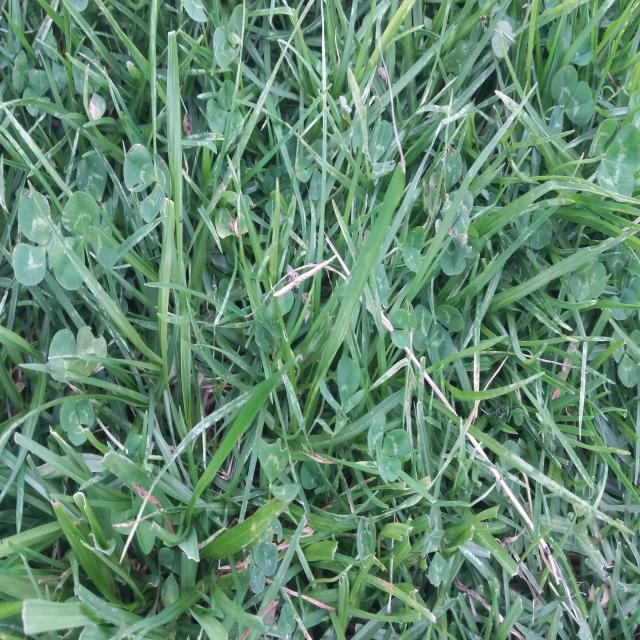Four Leaf Clover: (367, 413, 411, 484), (373, 155, 402, 196)
